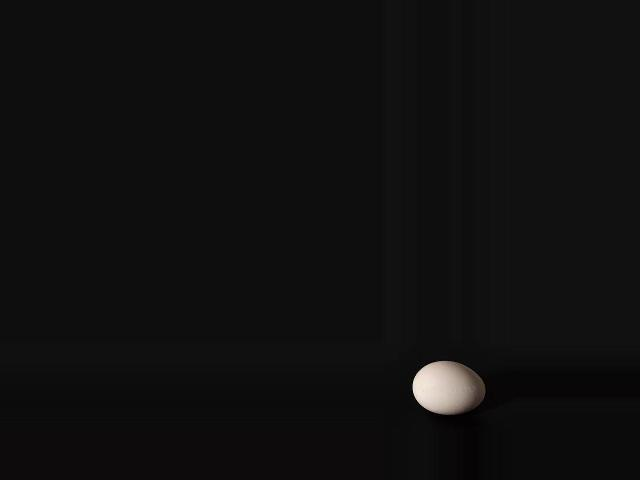egg: (411, 361, 484, 414)
